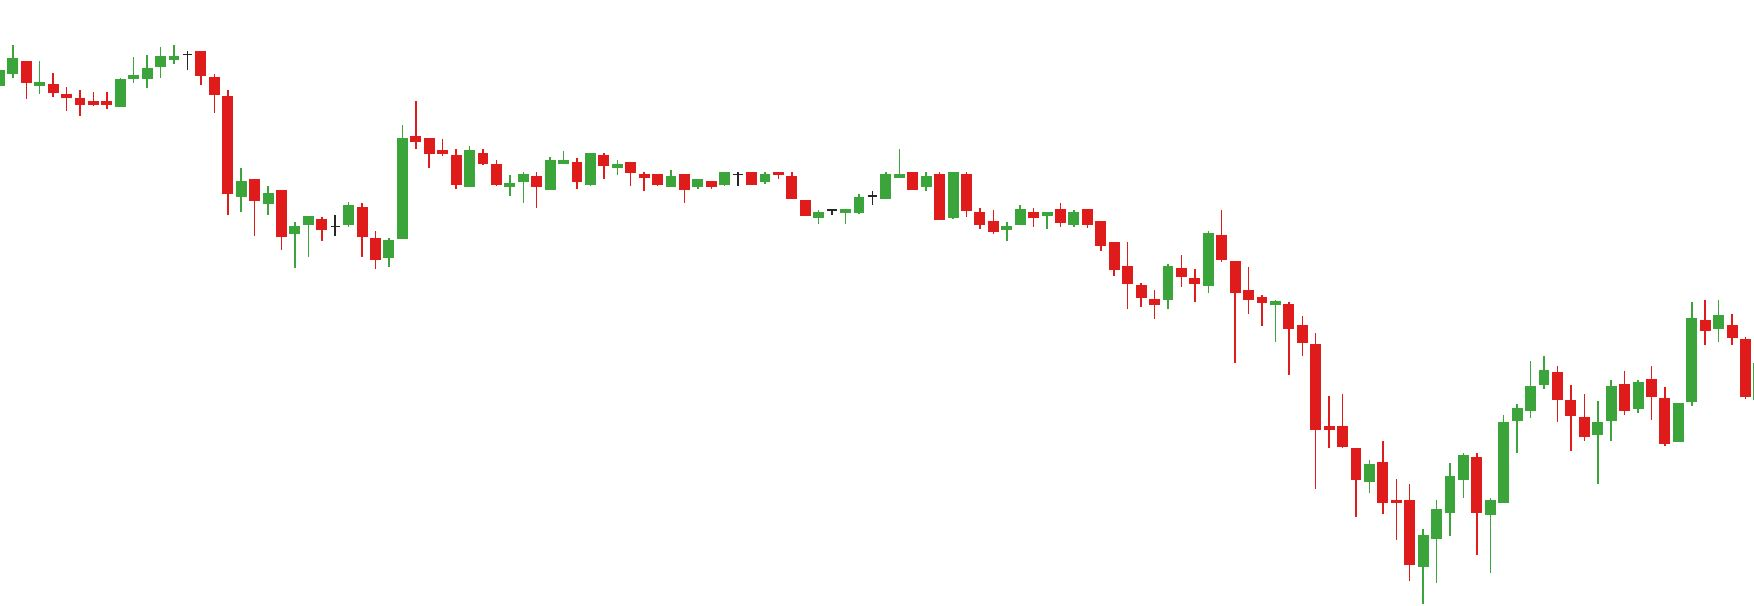sell: (1122, 207, 1227, 294)
